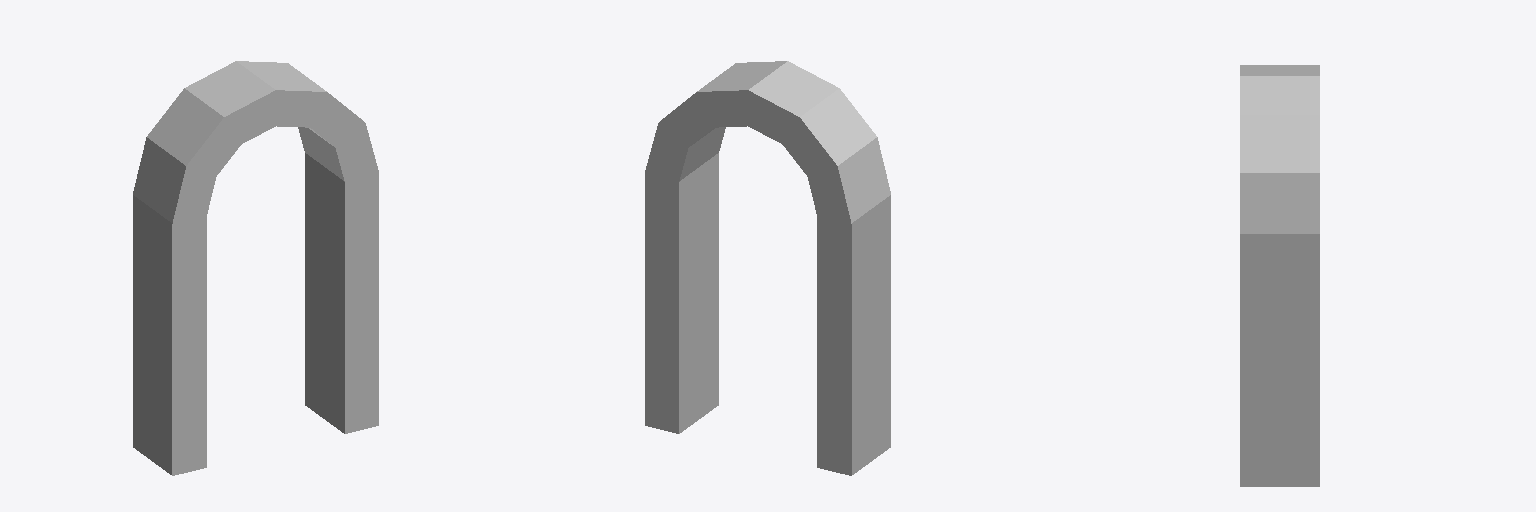
Rendered from doorOpen.obj.
3 renders of one model, left to right at view 1: azimuth 30°, elevation 25°; view 2: azimuth 150°, elevation 25°; view 3: azimuth 270°, elevation 25°, orthographic.
Visible parts, largest first — view 1: doorOpen; view 2: doorOpen; view 3: doorOpen.
Boxes of the visible parts, x1=… form: doorOpen: x1=133, y1=61, x2=378, y2=475; doorOpen: x1=645, y1=61, x2=890, y2=475; doorOpen: x1=1240, y1=65, x2=1319, y2=486.
Bounding box in the file's own units: 0.6 × 1 × 0.2.